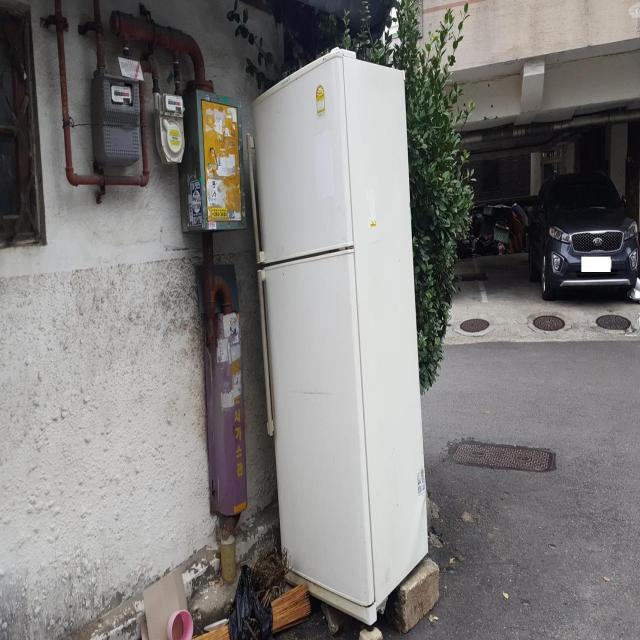refrigerator: (244, 46, 430, 629)
